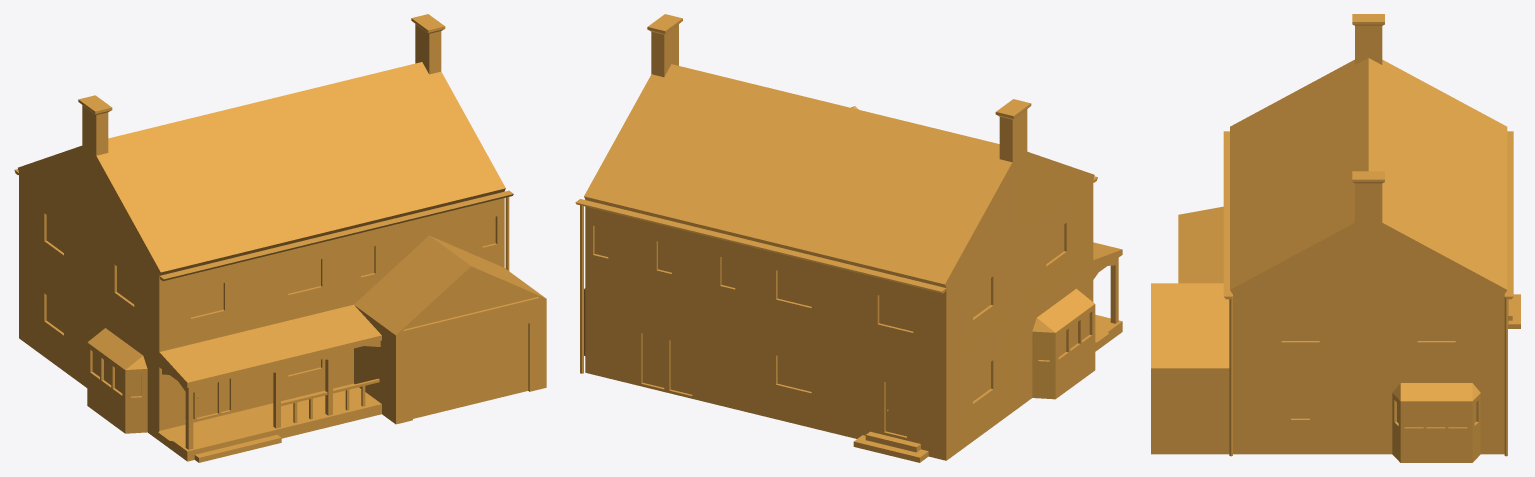
File: building-house-family-large.fbx
The picture shows the model from 3 angles, left to right: view 1: azimuth 30°, elevation 25°; view 2: azimuth 150°, elevation 25°; view 3: azimuth 270°, elevation 25°; orthographic projection. The views are drawn at different scales.
Parts seen in each view (by area): view 1: building-house-family-large; view 2: building-house-family-large; view 3: building-house-family-large.
Part boxes in pixels (bbox=[...]): building-house-family-large: bbox=[14, 14, 546, 462]; building-house-family-large: bbox=[575, 14, 1122, 462]; building-house-family-large: bbox=[1151, 14, 1520, 462].
Bounding box in the file's own units: 15.68 × 11.2 × 13.6.
